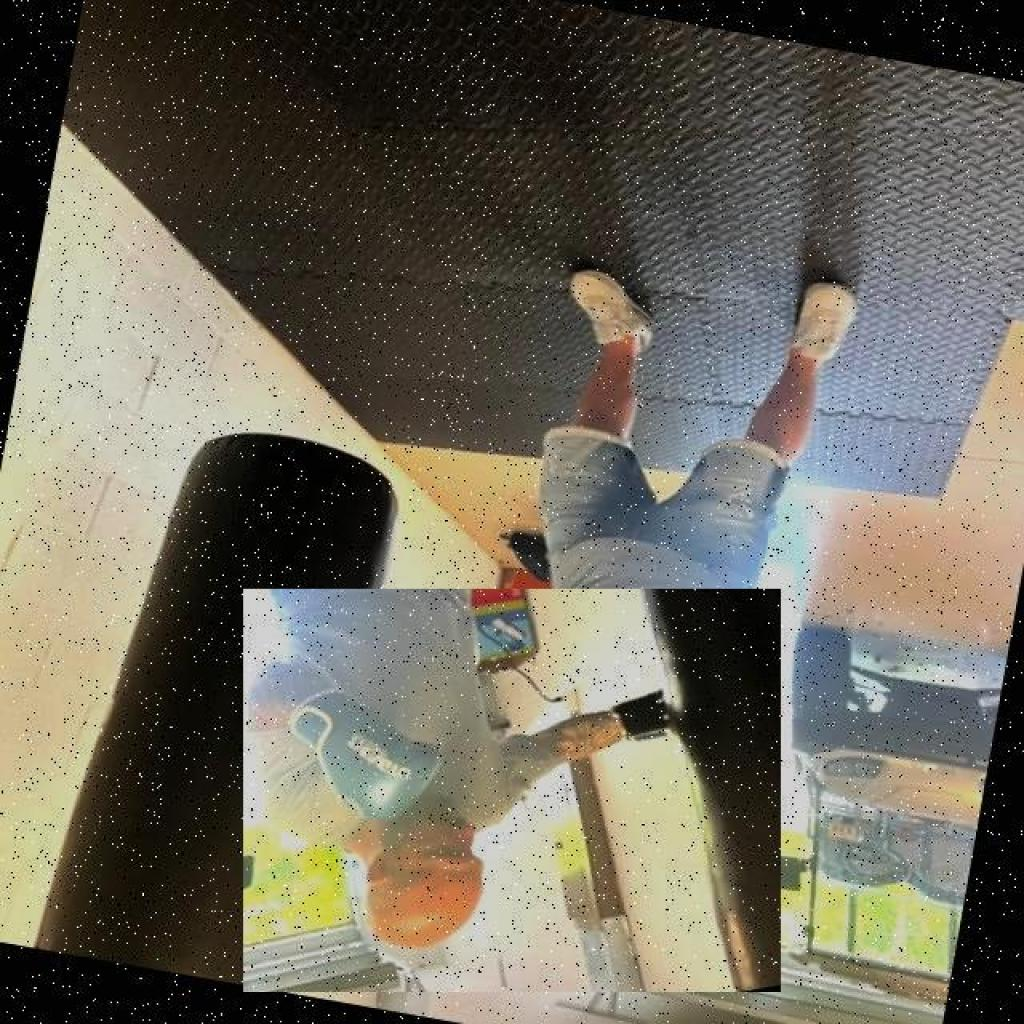hook: (243, 589, 782, 993)
